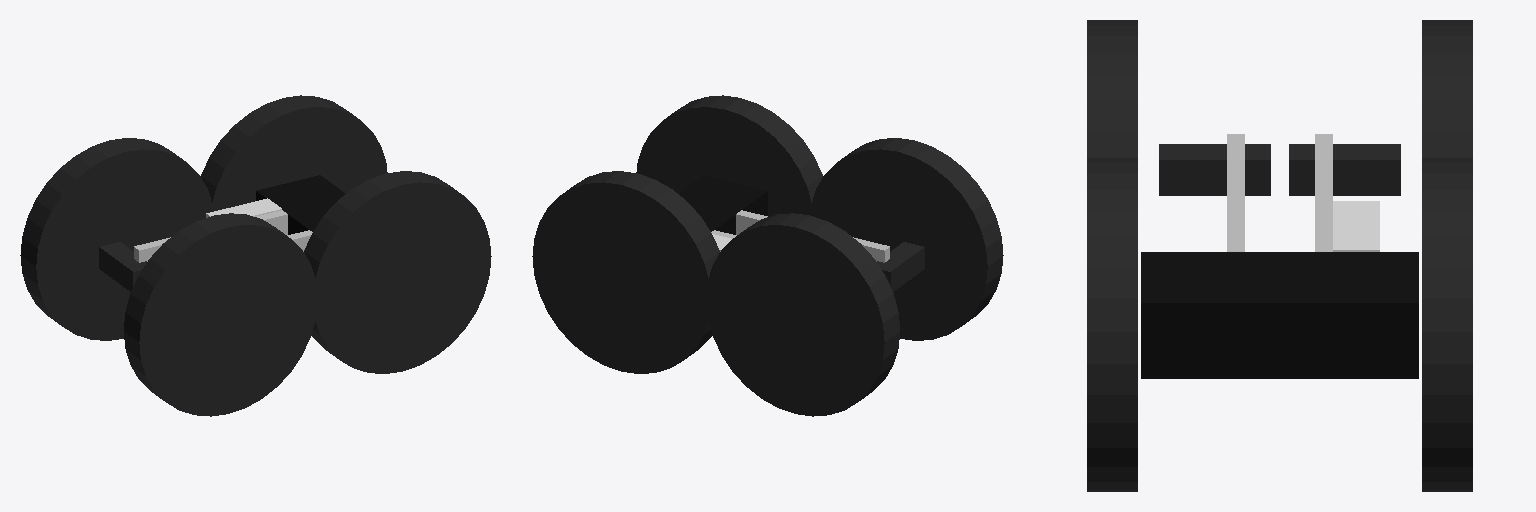
The robot description file, URDF, robot "taros-4":
<?xml version="1.0" ?>
<!-- =================================================================================== -->
<!-- |    This document was autogenerated by xacro from [local-path]/helhest/src/helhest-sim/helhest_description/urdf/helhest.urdf.xacro | -->
<!-- |    EDITING THIS FILE BY HAND IS NOT RECOMMENDED                                 | -->
<!-- =================================================================================== -->
<robot name="taros-4">
  <!-- soft|omni -->
  <link name="base_link">
    <visual>
      <origin xyz="-0.047 0 0"/>
      <geometry>
        <box size="0.26 0.6 0.18"/>
      </geometry>
      <material name="base_link_color">
        <color rgba="0.1 0.1 0.1 1.0"/>
      </material>
    </visual>
    <collision>
      <origin xyz="-0.047 0 0"/>
      <geometry>
        <box size="0.26 0.6 0.18"/>
      </geometry>
    </collision>
    <inertial>
      <mass value="19"/>
      <origin rpy="0 0 0" xyz="-0.047 0 0"/>
      <inertia ixx="0.6213" ixy="0.0" ixz="0.0" iyy="0.15833333333333333" iyz="0.0" izz="0.6770333333333333"/>
    </inertial>
  </link>
  <link name="base_footprint"/>
  <joint name="base_footprint_j" type="fixed">
    <parent link="base_link"/>
    <child link="base_footprint"/>
    <origin rpy="0 0 0" xyz="0 0 -0.36"/>
  </joint>
  <link name="base_link_center"/>
  <joint name="base_link_center_j" type="fixed">
    <parent link="base_link"/>
    <child link="base_link_center"/>
    <origin rpy="0 0 0" xyz="-0.047 0 0"/>
  </joint>
  <link name="battery">
    <visual>
      <geometry>
        <box size="0.25 0.1 0.19"/>
      </geometry>
      <material name="battery_color">
        <color rgba="0.9 0.9 0.9 1.0"/>
      </material>
    </visual>
    <collision>
      <geometry>
        <box size="0.25 0.1 0.19"/>
      </geometry>
    </collision>
    <inertial>
      <mass value="2"/>
      <origin rpy="0 0 0" xyz="0 0 0"/>
      <inertia ixx="0.007683333333333334" ixy="0.0" ixz="0.0" iyy="0.01643333333333333" iyz="0.0" izz="0.012083333333333335"/>
    </inertial>
  </link>
  <joint name="battery_j" type="fixed">
    <parent link="base_link"/>
    <child link="battery"/>
    <origin rpy="0 0 0" xyz="-0.302 0.165 0"/>
  </joint>

  <!-- Motors -->
  <link name="front_left_motor">
    <visual>
      <geometry>
        <box size="0.085 0.24 0.085"/>
      </geometry>
      <material name="front_left_motor_color">
        <color rgba="0.2 0.2 0.2 1.0"/>
      </material>
    </visual>
    <collision>
      <geometry>
        <box size="0.085 0.24 0.085"/>
      </geometry>
    </collision>
    <inertial>
      <mass value="7"/>
      <origin rpy="0 0 0" xyz="0 0 0"/>
      <inertia ixx="0.037814583333333325" ixy="0.0" ixz="0.0" iyy="0.008429166666666666" iyz="0.0" izz="0.037814583333333325"/>
    </inertial>
  </link>
  <joint name="front_left_motor_j" type="fixed">
    <origin xyz="-0.09 0.14 0"/>
    <parent link="base_link"/>
    <child link="front_left_motor"/>
  </joint>

  <link name="front_right_motor">
    <visual>
      <geometry>
        <box size="0.085 0.24 0.085"/>
      </geometry>
      <material name="front_right_motor_color">
        <color rgba="0.2 0.2 0.2 1.0"/>
      </material>
    </visual>
    <collision>
      <geometry>
        <box size="0.085 0.24 0.085"/>
      </geometry>
    </collision>
    <inertial>
      <mass value="7"/>
      <origin rpy="0 0 0" xyz="0 0 0"/>
      <inertia ixx="0.037814583333333325" ixy="0.0" ixz="0.0" iyy="0.008429166666666666" iyz="0.0" izz="0.037814583333333325"/>
    </inertial>
  </link>
  <joint name="front_right_motor_j" type="fixed">
    <origin xyz="-0.09 -0.14 0"/>
    <parent link="base_link"/>
    <child link="front_right_motor"/>
  </joint>

  <link name="rear_left_motor">
    <visual>
      <geometry>
        <box size="0.085 0.24 0.085"/>
      </geometry>
      <material name="rear_left_motor_color">
        <color rgba="0.2 0.2 0.2 1.0"/>
      </material>
    </visual>
    <collision>
      <geometry>
        <box size="0.085 0.24 0.085"/>
      </geometry>
    </collision>
    <inertial>
      <mass value="7"/>
      <origin rpy="0 0 0" xyz="0 0 0"/>
      <inertia ixx="0.037814583333333325" ixy="0.0" ixz="0.0" iyy="0.008429166666666666" iyz="0.0" izz="0.037814583333333325"/>
    </inertial>
  </link>
  <joint name="rear_left_motor_j" type="fixed">
    <origin xyz="-0.79 0.14 0"/>
    <parent link="base_link"/>
    <child link="rear_left_motor"/>
  </joint>

  <link name="rear_right_motor">
    <visual>
      <geometry>
        <box size="0.085 0.24 0.085"/>
      </geometry>
      <material name="rear_right_motor_color">
        <color rgba="0.2 0.2 0.2 1.0"/>
      </material>
    </visual>
    <collision>
      <geometry>
        <box size="0.085 0.24 0.085"/>
      </geometry>
    </collision>
    <inertial>
      <mass value="7"/>
      <origin rpy="0 0 0" xyz="0 0 0"/>
      <inertia ixx="0.037814583333333325" ixy="0.0" ixz="0.0" iyy="0.008429166666666666" iyz="0.0" izz="0.037814583333333325"/>
    </inertial>
  </link>
  <joint name="rear_right_motor_j" type="fixed">
    <origin xyz="-0.79 -0.14 0"/>
    <parent link="base_link"/>
    <child link="rear_right_motor"/>
  </joint>

  <!-- Wheels -->
  <link name="front_left_wheel">
    <visual>
      <origin rpy="1.5707963267948966 0 0"/>
      <geometry>
        <cylinder length="0.11" radius="0.36"/>
      </geometry>
      <material name="front_left_wheel_color">
        <color rgba="0.2 0.2 0.2 1.0"/>
      </material>
    </visual>
    <collision>
      <origin rpy="1.5707963267948966 0 0"/>
      <geometry>
        <cylinder length="0.11" radius="0.36"/>
      </geometry>
    </collision>
    <inertial>
      <mass value="6"/>
      <origin rpy="1.5707963267948966 0 0" xyz="0 0 0"/>
      <inertia ixx="0.20045000000000002" ixy="0.0" ixz="0.0" iyy="0.20045000000000002" iyz="0.0" izz="0.38880000000000003"/>
    </inertial>
  </link>
  <joint name="front_left_wheel_j" type="continuous">
    <origin xyz="0.0 0.36 0"/>
    <parent link="base_link"/>
    <child link="front_left_wheel"/>
    <axis xyz="0 1 0"/>
  </joint>
  <ros2_control name="front_left_wheel_controller" type="system">
    <hardware>
      <plugin>gz_ros2_control/GazeboSimSystem</plugin>
    </hardware>
    <joint name="front_left_wheel_j">
      <state_interface name="velocity"/>
      <state_interface name="position"/>
      <command_interface name="velocity"/>
    </joint>
  </ros2_control>

  <link name="front_right_wheel">
    <visual>
      <origin rpy="1.5707963267948966 0 0"/>
      <geometry>
        <cylinder length="0.11" radius="0.36"/>
      </geometry>
      <material name="front_right_wheel_color">
        <color rgba="0.2 0.2 0.2 1.0"/>
      </material>
    </visual>
    <collision>
      <origin rpy="1.5707963267948966 0 0"/>
      <geometry>
        <cylinder length="0.11" radius="0.36"/>
      </geometry>
    </collision>
    <inertial>
      <mass value="6"/>
      <origin rpy="1.5707963267948966 0 0" xyz="0 0 0"/>
      <inertia ixx="0.20045000000000002" ixy="0.0" ixz="0.0" iyy="0.20045000000000002" iyz="0.0" izz="0.38880000000000003"/>
    </inertial>
  </link>
  <joint name="front_right_wheel_j" type="continuous">
    <origin xyz="0.0 -0.36 0"/>
    <parent link="base_link"/>
    <child link="front_right_wheel"/>
    <axis xyz="0 1 0"/>
  </joint>
  <ros2_control name="front_right_wheel_controller" type="system">
    <hardware>
      <plugin>gz_ros2_control/GazeboSimSystem</plugin>
    </hardware>
    <joint name="front_right_wheel_j">
      <state_interface name="velocity"/>
      <state_interface name="position"/>
      <command_interface name="velocity"/>
    </joint>
  </ros2_control>

  <link name="rear_left_wheel">
    <visual>
      <origin rpy="1.5707963267948966 0 0"/>
      <geometry>
        <cylinder length="0.11" radius="0.36"/>
      </geometry>
      <material name="rear_left_wheel_color">
        <color rgba="0.2 0.2 0.2 1.0"/>
      </material>
    </visual>
    <collision>
      <origin rpy="1.5707963267948966 0 0"/>
      <geometry>
        <cylinder length="0.11" radius="0.36"/>
      </geometry>
    </collision>
    <inertial>
      <mass value="6"/>
      <origin rpy="1.5707963267948966 0 0" xyz="0 0 0"/>
      <inertia ixx="0.20045000000000002" ixy="0.0" ixz="0.0" iyy="0.20045000000000002" iyz="0.0" izz="0.38880000000000003"/>
    </inertial>
  </link>
  <joint name="rear_left_wheel_j" type="continuous">
    <origin xyz="-0.7 0.36 0"/>
    <parent link="base_link"/>
    <child link="rear_left_wheel"/>
    <axis xyz="0 1 0"/>
  </joint>
  <ros2_control name="rear_left_wheel_controller" type="system">
    <hardware>
      <plugin>gz_ros2_control/GazeboSimSystem</plugin>
    </hardware>
    <joint name="rear_left_wheel_j">
      <state_interface name="velocity"/>
      <state_interface name="position"/>
      <command_interface name="velocity"/>
    </joint>
  </ros2_control>

  <link name="rear_right_wheel">
    <visual>
      <origin rpy="1.5707963267948966 0 0"/>
      <geometry>
        <cylinder length="0.11" radius="0.36"/>
      </geometry>
      <material name="rear_right_wheel_color">
        <color rgba="0.2 0.2 0.2 1.0"/>
      </material>
    </visual>
    <collision>
      <origin rpy="1.5707963267948966 0 0"/>
      <geometry>
        <cylinder length="0.11" radius="0.36"/>
      </geometry>
    </collision>
    <inertial>
      <mass value="6"/>
      <origin rpy="1.5707963267948966 0 0" xyz="0 0 0"/>
      <inertia ixx="0.20045000000000002" ixy="0.0" ixz="0.0" iyy="0.20045000000000002" iyz="0.0" izz="0.38880000000000003"/>
    </inertial>
  </link>
  <joint name="rear_right_wheel_j" type="continuous">
    <origin xyz="-0.7 -0.36 0"/>
    <parent link="base_link"/>
    <child link="rear_right_wheel"/>
    <axis xyz="0 1 0"/>
  </joint>
  <ros2_control name="rear_right_wheel_controller" type="system">
    <hardware>
      <plugin>gz_ros2_control/GazeboSimSystem</plugin>
    </hardware>
    <joint name="rear_right_wheel_j">
      <state_interface name="velocity"/>
      <state_interface name="position"/>
      <command_interface name="velocity"/>
    </joint>
  </ros2_control>

  <link name="left_wheel_holder">
    <visual>
      <geometry>
        <box size="0.6 0.04 0.18"/>
      </geometry>
      <material name="left_wheel_holder_color">
        <color rgba="0.8 0.8 0.8 1.0"/>
      </material>
    </visual>
    <collision>
      <geometry>
        <box size="0.6 0.04 0.18"/>
      </geometry>
    </collision>
    <inertial>
      <mass value="3"/>
      <origin rpy="0 0 0" xyz="0 0 0"/>
      <inertia ixx="0.008499999999999999" ixy="0.0" ixz="0.0" iyy="0.09809999999999999" iyz="0.0" izz="0.0904"/>
    </inertial>
  </link>
  <joint name="left_wheel_holder_j" type="fixed">
    <parent link="base_link"/>
    <child link="left_wheel_holder"/>
    <origin rpy="0 0 0" xyz="-0.477 0.095 0.0"/>
  </joint>
  <link name="right_wheel_holder">
    <visual>
      <geometry>
        <box size="0.6 0.04 0.18"/>
      </geometry>
      <material name="right_wheel_holder_color">
        <color rgba="0.8 0.8 0.8 1.0"/>
      </material>
    </visual>
    <collision>
      <geometry>
        <box size="0.6 0.04 0.18"/>
      </geometry>
    </collision>
    <inertial>
      <mass value="3"/>
      <origin rpy="0 0 0" xyz="0 0 0"/>
      <inertia ixx="0.008499999999999999" ixy="0.0" ixz="0.0" iyy="0.09809999999999999" iyz="0.0" izz="0.0904"/>
    </inertial>
  </link>
  <joint name="right_wheel_holder_j" type="fixed">
    <parent link="base_link"/>
    <child link="right_wheel_holder"/>
    <origin rpy="0 0 0" xyz="-0.477 -0.095 0.0"/>
  </joint>
  <joint name="imu_j" type="fixed">
    <parent link="base_link"/>
    <child link="imu"/>
    <origin rpy="0 0 0" xyz="0 0 0"/>
  </joint>
  <!-- workaround for https://github.com/osrf/sdformat/issues/378 -->
  <gazebo reference="imu_j">
    <preserveFixedJoint>true</preserveFixedJoint>
  </gazebo>
  <link name="imu">
    <inertial>
      <origin rpy="0 0 0" xyz="0 0 0"/>
      <mass value="1e-5"/>
      <inertia ixx="1e-3" ixy="1e-6" ixz="1e-6" iyy="1e-3" iyz="1e-6" izz="1e-3"/>
    </inertial>
    <selfCollide>false</selfCollide>
  </link>
  <gazebo reference="imu">
    <sensor name="imu" type="imu">
      <always_on>true</always_on>
      <update_rate>100</update_rate>
      <imu>
        <angular_velocity>
          <x>
            <noise type="gaussian">
              <mean>0.0</mean>
              <stddev>0.0</stddev>
            </noise>
          </x>
          <y>
            <noise type="gaussian">
              <mean>0.0</mean>
              <stddev>0.0</stddev>
            </noise>
          </y>
          <z>
            <noise type="gaussian">
              <mean>0.0</mean>
              <stddev>0.0</stddev>
            </noise>
          </z>
        </angular_velocity>
        <linear_acceleration>
          <x>
            <noise type="gaussian">
              <mean>0.0</mean>
              <stddev>0.0</stddev>
            </noise>
          </x>
          <y>
            <noise type="gaussian">
              <mean>0.0</mean>
              <stddev>0.0</stddev>
            </noise>
          </y>
          <z>
            <noise type="gaussian">
              <mean>0.0</mean>
              <stddev>0.0</stddev>
            </noise>
          </z>
        </linear_acceleration>
      </imu>
    </sensor>
  </gazebo>
</robot>

--- Render facts (derived) ---
3 views of the same robot in one strip: view 1: azimuth 30°, elevation 25°; view 2: azimuth 150°, elevation 25°; view 3: azimuth 270°, elevation 25° (orthographic).
Robot: taros-4 — 15 links, 14 joints (4 continuous, 10 fixed); root link base_link; default pose: all joints at 0.
Links seen in each view (by area): view 1: rear_right_wheel, front_right_wheel, rear_left_wheel, front_left_wheel, base_link, rear_left_motor, left_wheel_holder, battery; view 2: rear_left_wheel, front_left_wheel, rear_right_wheel, front_right_wheel, base_link, rear_right_motor, right_wheel_holder; view 3: base_link, front_left_wheel, front_right_wheel, rear_left_wheel, rear_right_wheel, rear_left_motor, rear_right_motor, battery, left_wheel_holder, right_wheel_holder.
Link boxes in pixels (x1=…): rear_right_wheel: x1=124, y1=213, x2=316, y2=416; front_right_wheel: x1=304, y1=171, x2=491, y2=373; rear_left_wheel: x1=20, y1=138, x2=212, y2=340; front_left_wheel: x1=201, y1=95, x2=387, y2=211; base_link: x1=256, y1=175, x2=345, y2=234; rear_left_motor: x1=99, y1=242, x2=146, y2=291; left_wheel_holder: x1=134, y1=210, x2=287, y2=262; battery: x1=206, y1=198, x2=281, y2=217; rear_left_wheel: x1=706, y1=213, x2=899, y2=416; front_left_wheel: x1=532, y1=171, x2=719, y2=373; rear_right_wheel: x1=810, y1=138, x2=1003, y2=340; front_right_wheel: x1=636, y1=95, x2=822, y2=216; base_link: x1=678, y1=175, x2=767, y2=234; rear_right_motor: x1=877, y1=242, x2=924, y2=291; right_wheel_holder: x1=736, y1=210, x2=889, y2=262; base_link: x1=1141, y1=252, x2=1418, y2=378; front_left_wheel: x1=1422, y1=158, x2=1472, y2=491; front_right_wheel: x1=1087, y1=158, x2=1137, y2=491; rear_left_wheel: x1=1422, y1=20, x2=1472, y2=157; rear_right_wheel: x1=1087, y1=20, x2=1137, y2=157; rear_left_motor: x1=1289, y1=144, x2=1400, y2=195; rear_right_motor: x1=1159, y1=144, x2=1270, y2=195; battery: x1=1333, y1=201, x2=1379, y2=251; left_wheel_holder: x1=1315, y1=134, x2=1332, y2=251; right_wheel_holder: x1=1227, y1=134, x2=1244, y2=251.
Bounding box of the posed robot: 1.42 × 0.83 × 0.72 m (x, y, z).
Geometry: primitives only (box / cylinder / sphere), no mesh files.